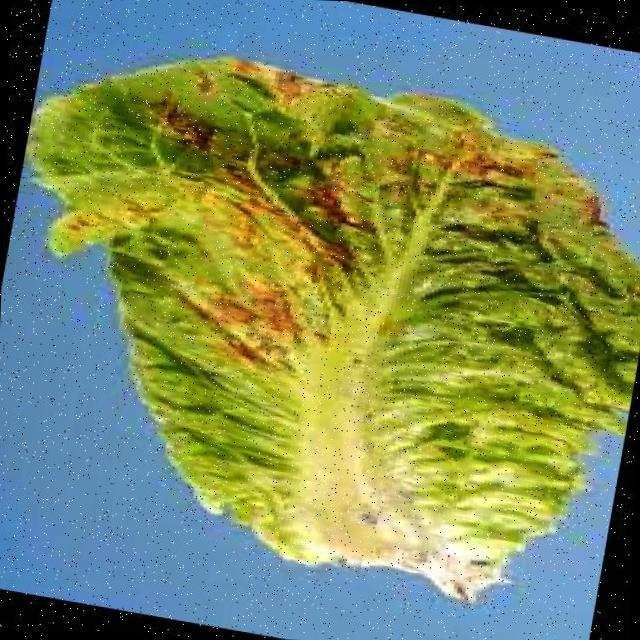Lettuce Mosaic Virus: (127, 75, 640, 582)
